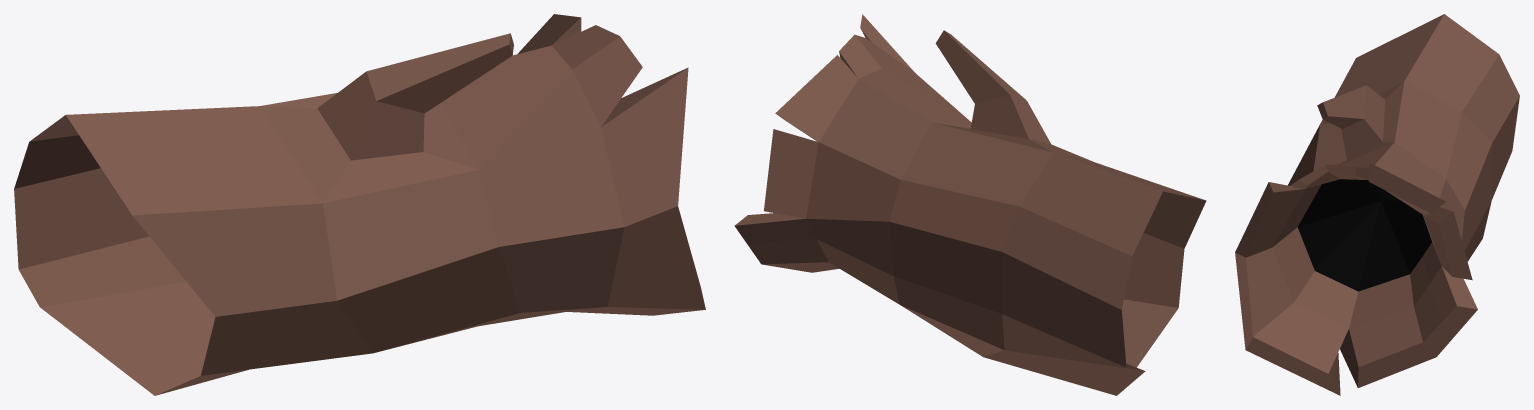
Rendered from Tronco.FBX.
3 renders of one model, left to right at view 1: azimuth 30°, elevation 25°; view 2: azimuth 150°, elevation 25°; view 3: azimuth 270°, elevation 25°, orthographic. The views are drawn at different scales.
Parts seen in each view (by area): view 1: Object005; view 2: Object005; view 3: Object005.
Boxes of the visible parts, left/top/right/bottom form: Object005: left=14, top=14, right=705, bottom=395; Object005: left=734, top=14, right=1206, bottom=395; Object005: left=1235, top=14, right=1519, bottom=395.
Bounding box in the file's own units: 69.85 × 43.87 × 45.5.
